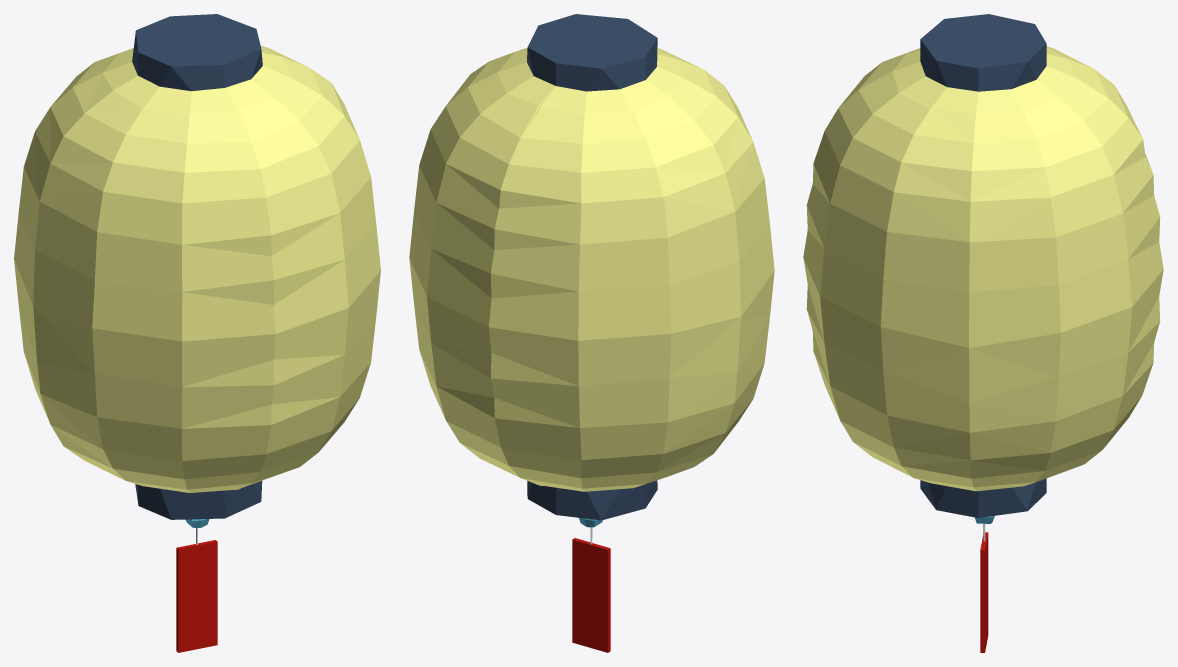
Rendered from lantern.glb.
3 renders of one model, left to right at view 1: azimuth 30°, elevation 25°; view 2: azimuth 150°, elevation 25°; view 3: azimuth 270°, elevation 25°, orthographic.
Parts seen in each view (by area): view 1: lantern; view 2: lantern; view 3: lantern.
Part boxes in pixels (x1=…): lantern: x1=14, y1=14, x2=380, y2=652; lantern: x1=409, y1=14, x2=774, y2=652; lantern: x1=803, y1=14, x2=1163, y2=652.
Size of the model in its own units: 1.99 by 3.68 by 1.99.
1 material, 1 textured.
